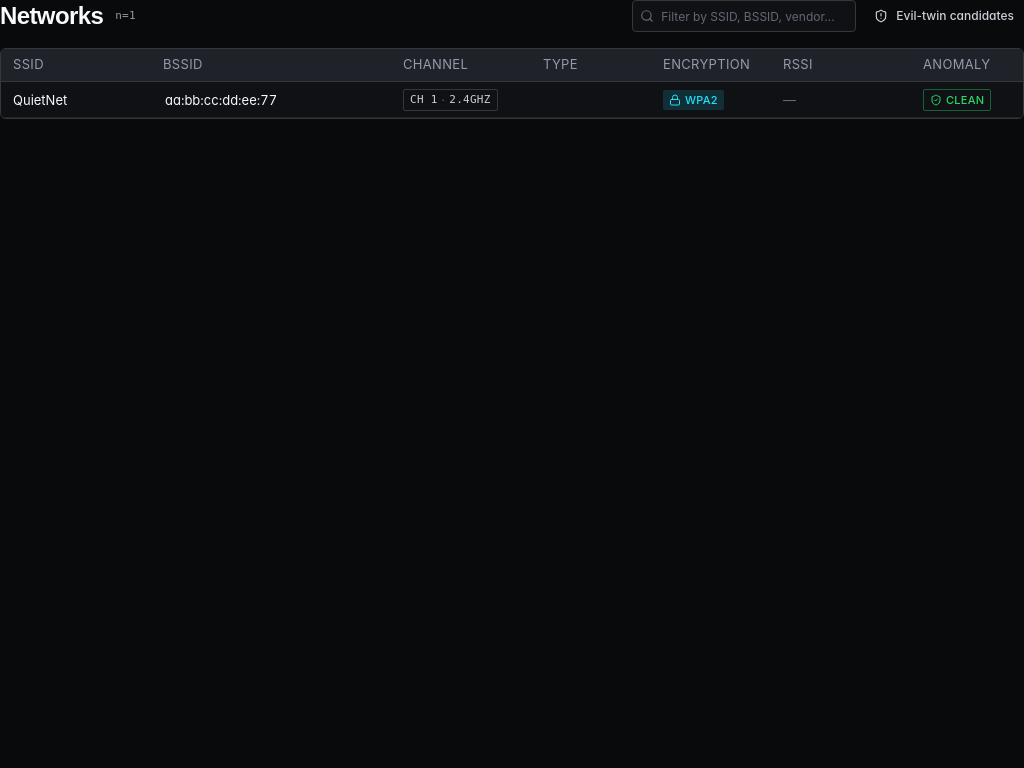
it: NetworksView › shows an empty message when an AP has no associated clients
The width and height of the screenshot is (1024, 768).
Click the text "QuietNet" at (40, 100), box [13,90,67,110]
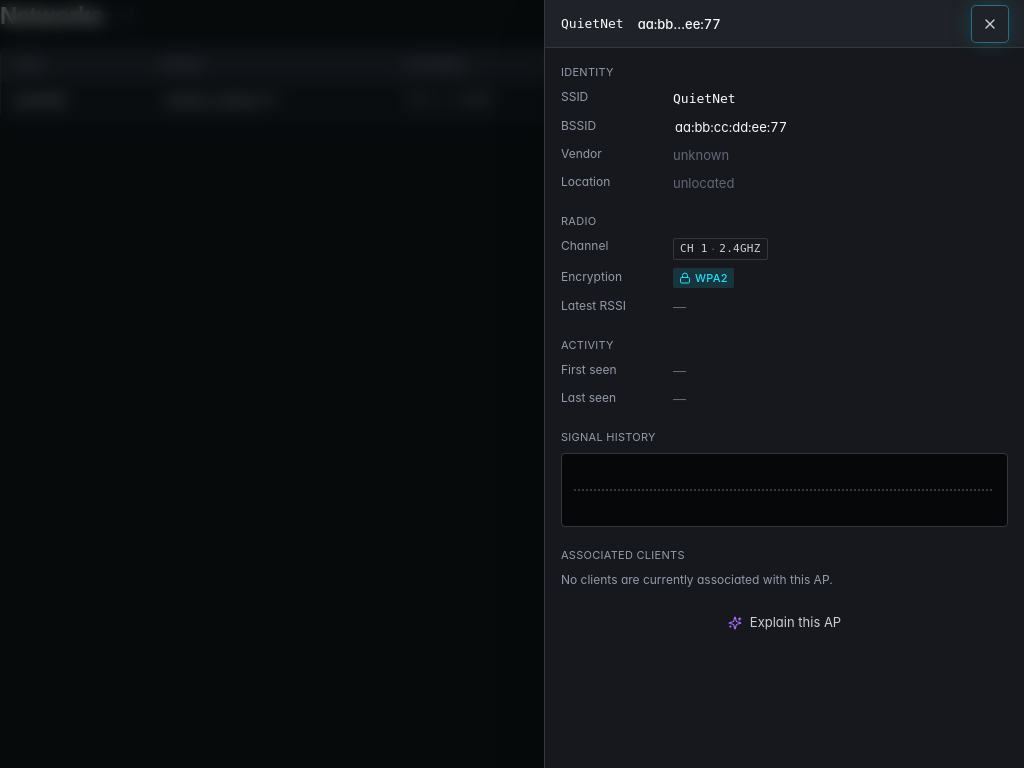
Now the text "No clients are currently associated with this AP." is shown, box [561,572,833,587]
